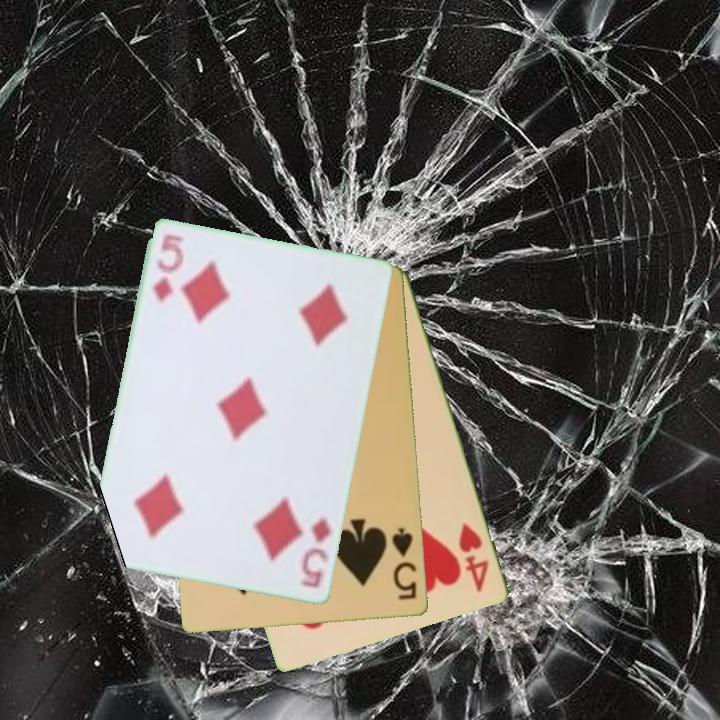4h: (455, 520, 493, 596)
5d: (297, 514, 335, 592), (150, 231, 186, 308)
5s: (388, 524, 420, 603)
